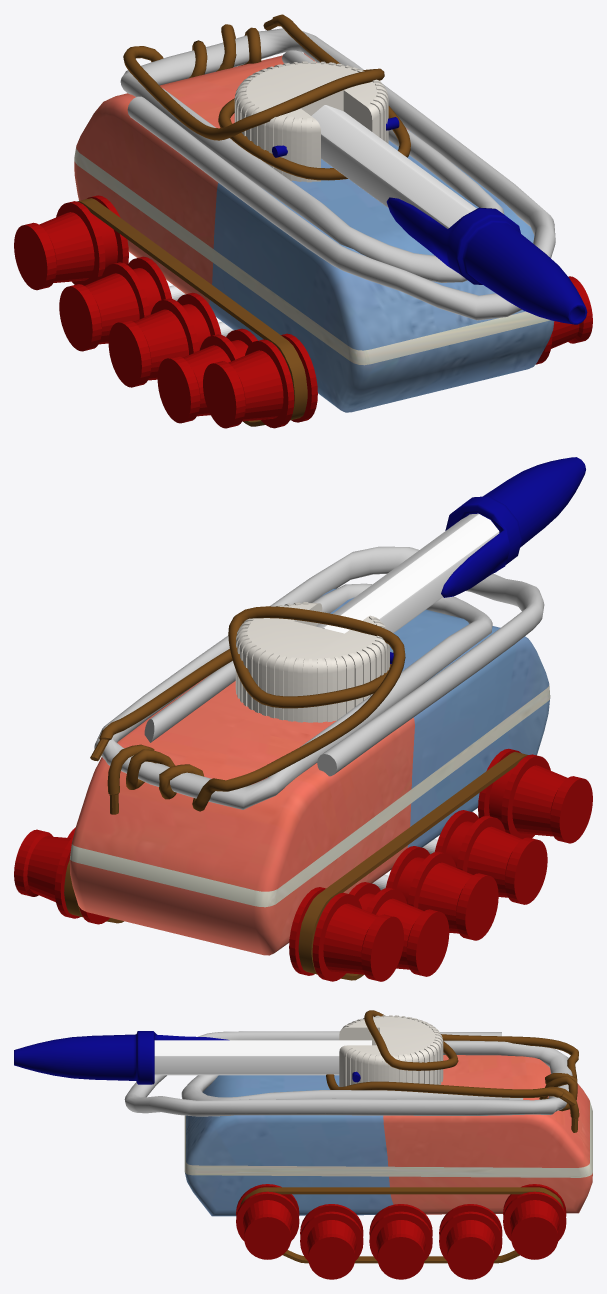
The model's file is tank1.fbx.
The picture shows the model from 3 angles, top to bottom: view 1: azimuth 30°, elevation 25°; view 2: azimuth 150°, elevation 25°; view 3: azimuth 270°, elevation 25°; orthographic projection. The views are drawn at different scales.
Parts seen in each view (by area): view 1: Gomme, trombone, bouchonStylo, bouchon, lacet, Stylo, Cylinder010, Cylinder014, Cylinder013, Cylinder012, elastic, Cylinder011 (+1 smaller); view 2: Gomme, trombone, lacet, bouchon, bouchonStylo, Stylo, Cylinder010, Cylinder014, Cylinder012, Cylinder011, elastic, Cylinder013 (+1 smaller); view 3: Gomme, trombone, Stylo, bouchonStylo, bouchon, lacet, Roue3, Roue2, Roue4, Roue5, Roue1, elastic2.
Part boxes in pixels (x1=…): Gomme: x1=74, y1=53, x2=554, y2=412; trombone: x1=120, y1=28, x2=555, y2=320; bouchonStylo: x1=386, y1=197, x2=587, y2=324; bouchon: x1=234, y1=61, x2=388, y2=182; lacet: x1=123, y1=14, x2=410, y2=180; Stylo: x1=311, y1=105, x2=476, y2=228; Cylinder010: x1=203, y1=333, x2=317, y2=428; Cylinder014: x1=14, y1=195, x2=128, y2=290; Cylinder013: x1=59, y1=256, x2=185, y2=351; Cylinder012: x1=108, y1=292, x2=233, y2=387; elastic: x1=77, y1=198, x2=307, y2=426; Cylinder011: x1=157, y1=328, x2=257, y2=423; Gomme: x1=69, y1=588, x2=550, y2=955; trombone: x1=94, y1=546, x2=544, y2=809; lacet: x1=90, y1=606, x2=405, y2=814; bouchon: x1=235, y1=602, x2=389, y2=722; bouchonStylo: x1=441, y1=457, x2=585, y2=597; Stylo: x1=315, y1=513, x2=499, y2=633; Cylinder010: x1=478, y1=748, x2=592, y2=843; Cylinder014: x1=289, y1=887, x2=403, y2=981; Cylinder012: x1=372, y1=846, x2=498, y2=940; Cylinder011: x1=422, y1=810, x2=547, y2=904; elastic: x1=298, y1=752, x2=527, y2=980; Cylinder013: x1=349, y1=882, x2=449, y2=976; Gomme: x1=184, y1=1055, x2=592, y2=1216; trombone: x1=124, y1=1031, x2=572, y2=1116; Stylo: x1=154, y1=1040, x2=371, y2=1075; bouchonStylo: x1=14, y1=1031, x2=229, y2=1084; bouchon: x1=339, y1=1015, x2=443, y2=1086; lacet: x1=326, y1=1010, x2=579, y2=1132; Roue3: x1=369, y1=1204, x2=432, y2=1279; Roue2: x1=439, y1=1204, x2=502, y2=1279; Roue4: x1=300, y1=1204, x2=363, y2=1279; Roue5: x1=236, y1=1184, x2=299, y2=1259; Roue1: x1=503, y1=1184, x2=566, y2=1259; elastic2: x1=240, y1=1187, x2=563, y2=1263.
Size of the model in its own units: 32.6 by 24.41 by 64.84.
